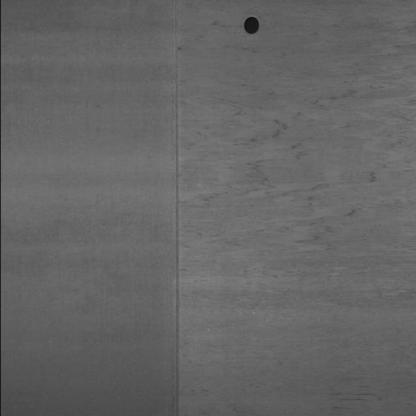oil_spot: (319, 385, 379, 411)
punching_hole: (239, 13, 263, 37)
silk_spot: (200, 73, 410, 260)
welding_line: (160, 2, 190, 413)
